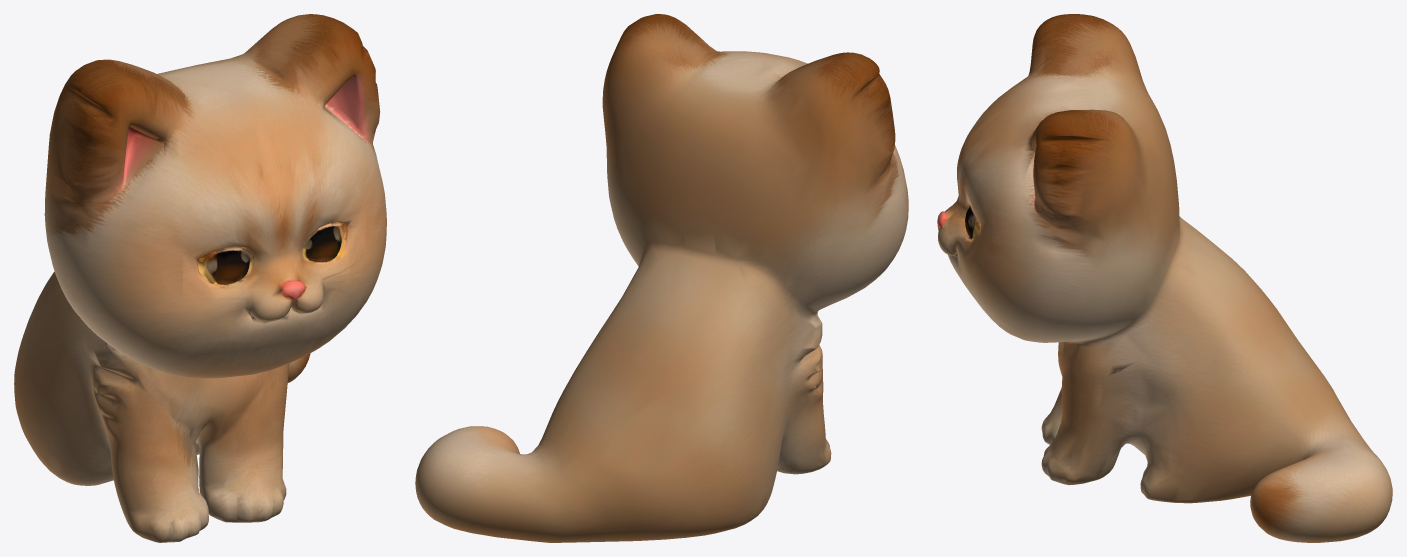
File: qqcat-prod-tinted.glb
3 renders of one model, left to right at view 1: azimuth 30°, elevation 25°; view 2: azimuth 150°, elevation 25°; view 3: azimuth 270°, elevation 25°, orthographic. The views are drawn at different scales.
Visible parts, largest first — view 1: node_0; view 2: node_0; view 3: node_0.
Part boxes in pixels (x1=…): node_0: x1=14, y1=14, x2=386, y2=542; node_0: x1=415, y1=14, x2=908, y2=542; node_0: x1=937, y1=14, x2=1392, y2=542.
Size of the model in its own units: 0.6645 by 0.8028 by 0.8218.
Materials: 1 (1 with a texture image).
